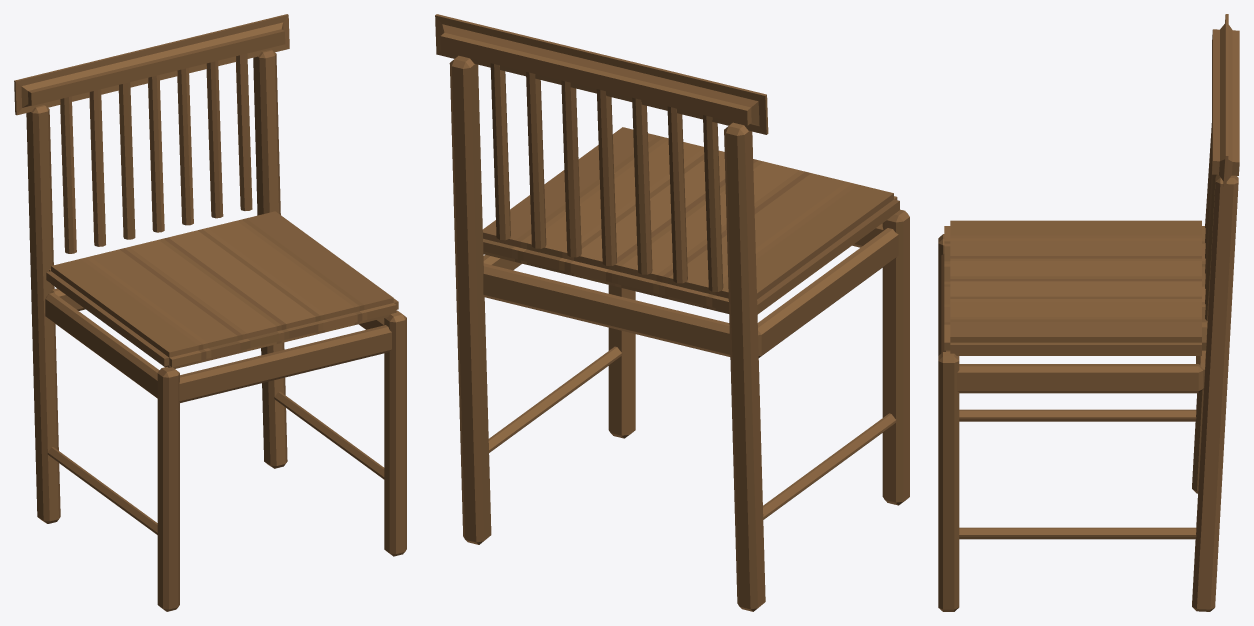
File: koala-chair.glb
The picture shows the model from 3 angles, left to right: view 1: azimuth 30°, elevation 25°; view 2: azimuth 150°, elevation 25°; view 3: azimuth 270°, elevation 25°; orthographic projection. The views are drawn at different scales.
Parts seen in each view (by area): view 1: koala-seat-sky; view 2: koala-seat-sky; view 3: koala-seat-sky.
Boxes of the visible parts, x1,y1,x2,y2 form: koala-seat-sky: (14,14,406,611); koala-seat-sky: (435,14,909,611); koala-seat-sky: (938,14,1239,611).
Size of the model in its own units: 0.56 by 0.8577 by 0.5032.
